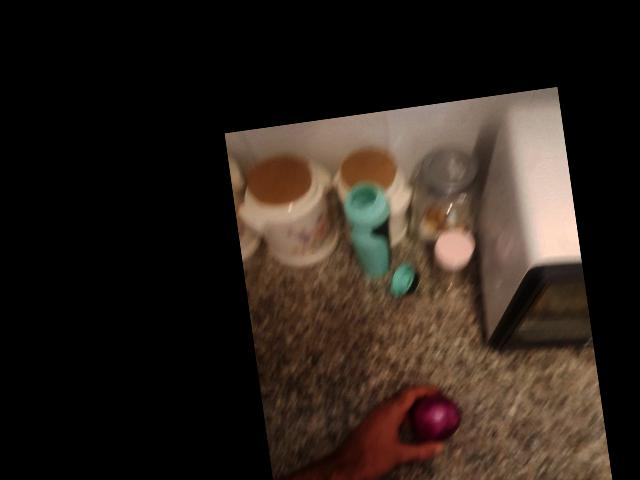onion: (524, 223, 581, 273)
